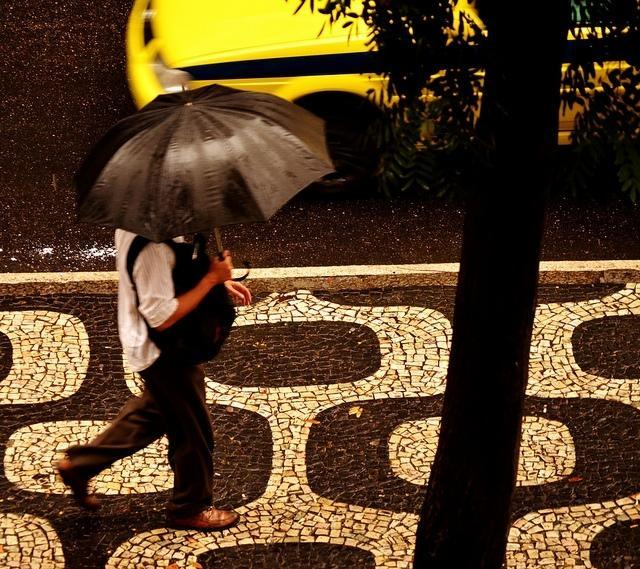car: (115, 0, 640, 186)
